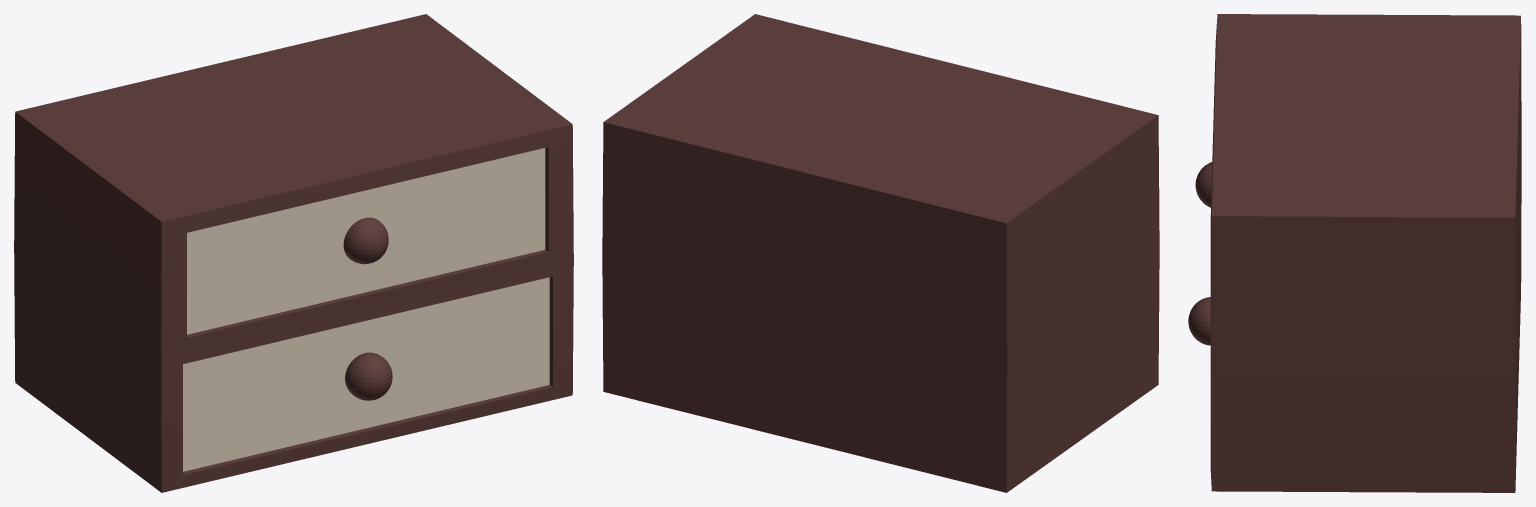
The model's file is mueble.glb.
The picture shows the model from 3 angles, left to right: view 1: azimuth 30°, elevation 25°; view 2: azimuth 150°, elevation 25°; view 3: azimuth 270°, elevation 25°; orthographic projection. The views are drawn at different scales.
Visible parts, largest first — view 1: Cube.002; view 2: Cube.002; view 3: Cube.002.
Boxes of the visible parts, bbox=[...] form: Cube.002: bbox=[14, 14, 573, 492]; Cube.002: bbox=[602, 14, 1159, 492]; Cube.002: bbox=[1188, 14, 1521, 492].
Bounding box in the file's own units: 2.2 × 1.38 × 1.52.
